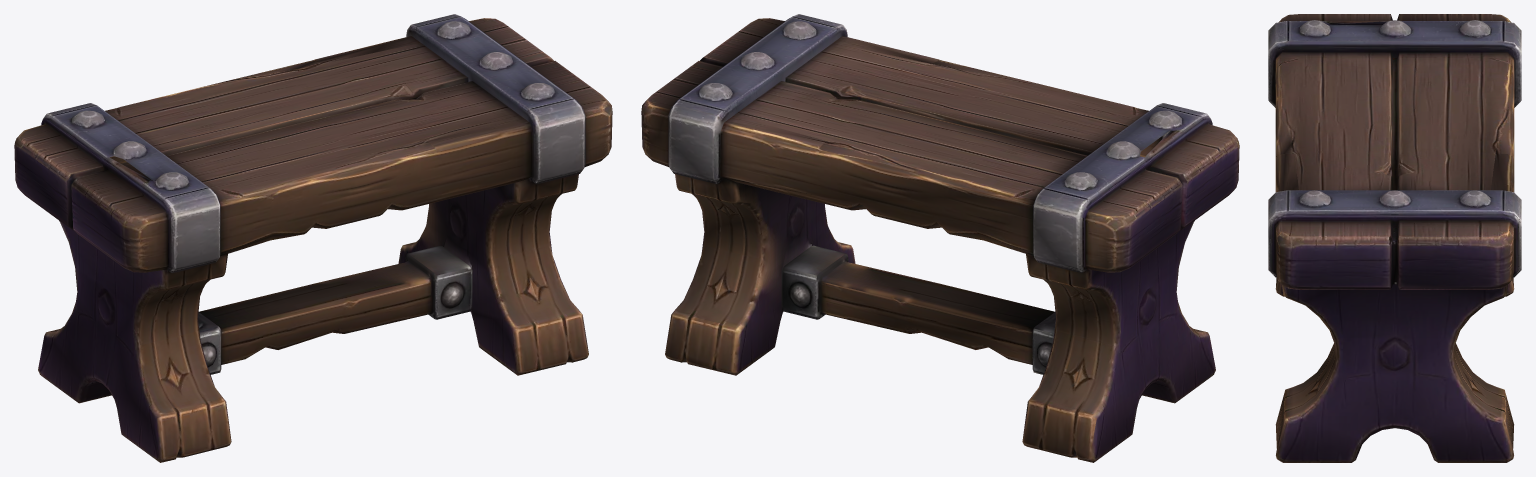
The model's file is castle-bench.glb.
3 renders of one model, left to right at view 1: azimuth 30°, elevation 25°; view 2: azimuth 150°, elevation 25°; view 3: azimuth 270°, elevation 25°, orthographic. The views are drawn at different scales.
Parts seen in each view (by area): view 1: mesh_rep_0_ori_repair; view 2: mesh_rep_0_ori_repair; view 3: mesh_rep_0_ori_repair.
Boxes of the visible parts, left/top/right/bottom form: mesh_rep_0_ori_repair: left=14, top=14, right=612, bottom=462; mesh_rep_0_ori_repair: left=641, top=14, right=1239, bottom=462; mesh_rep_0_ori_repair: left=1268, top=14, right=1521, bottom=462.
Size of the model in its own units: 1.04 by 0.5474 by 0.4902.
Materials: 1 (1 with a texture image).
